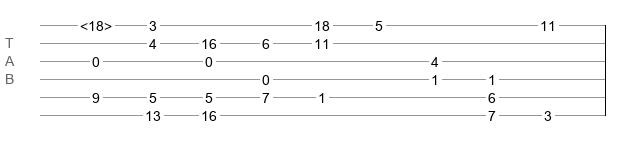0: (92, 54, 100, 64), (205, 54, 213, 64), (262, 72, 270, 82)
1: (318, 90, 326, 100), (431, 72, 439, 82), (488, 72, 496, 82)
11: (314, 36, 330, 46), (540, 18, 556, 28)
13: (145, 108, 161, 118)
16: (201, 108, 217, 118), (201, 36, 217, 46)
18: (314, 18, 330, 28)
3: (149, 18, 157, 28), (544, 108, 552, 118)
4: (149, 36, 157, 46), (431, 54, 439, 64)
5: (149, 90, 157, 100), (205, 90, 213, 100), (375, 18, 383, 28)
6: (262, 36, 270, 46), (488, 90, 496, 100)
7: (262, 90, 270, 100), (488, 108, 496, 118)
9: (92, 90, 100, 100)
harmonic: (80, 18, 112, 28)
